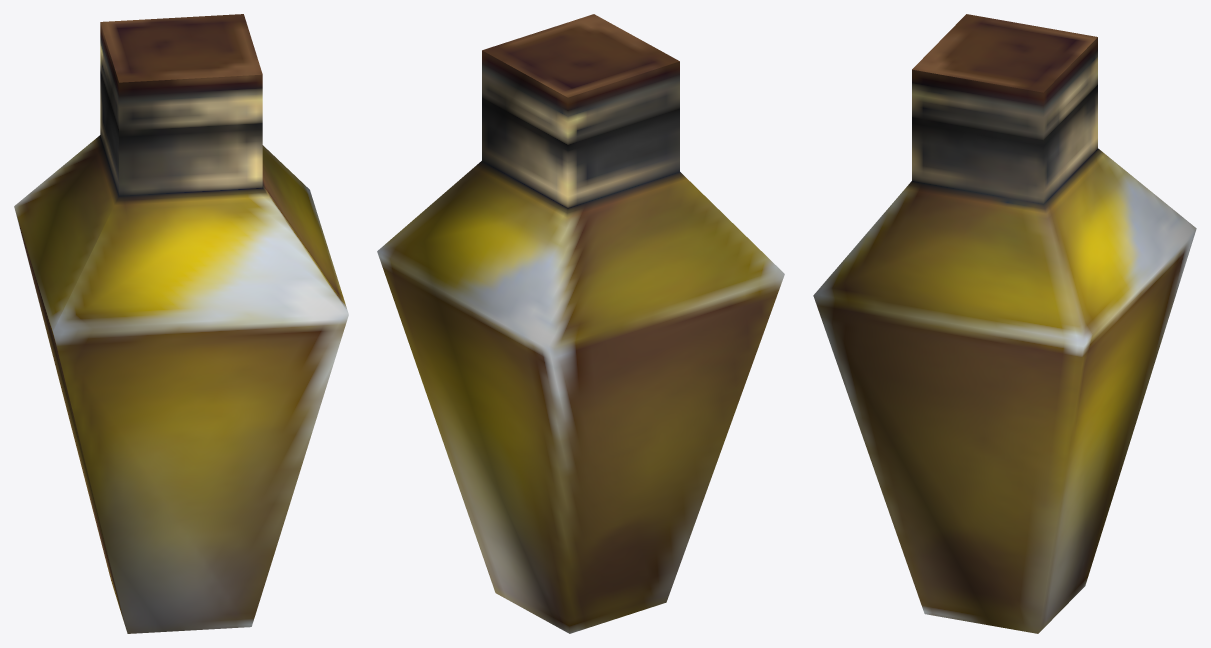
File: potion_minor05.fbx
3 views of the same model, side by side, from view 1: azimuth 30°, elevation 25°; view 2: azimuth 150°, elevation 25°; view 3: azimuth 270°, elevation 25° (orthographic). The views are drawn at different scales.
Visible parts, largest first — view 1: potion_minor05; view 2: potion_minor05; view 3: potion_minor05.
Boxes of the visible parts, x1,y1,x2,y2 form: potion_minor05: [14, 14, 348, 633]; potion_minor05: [377, 14, 784, 633]; potion_minor05: [813, 14, 1196, 633].
Bounding box in the file's own units: 12.74 × 20.05 × 12.74.
